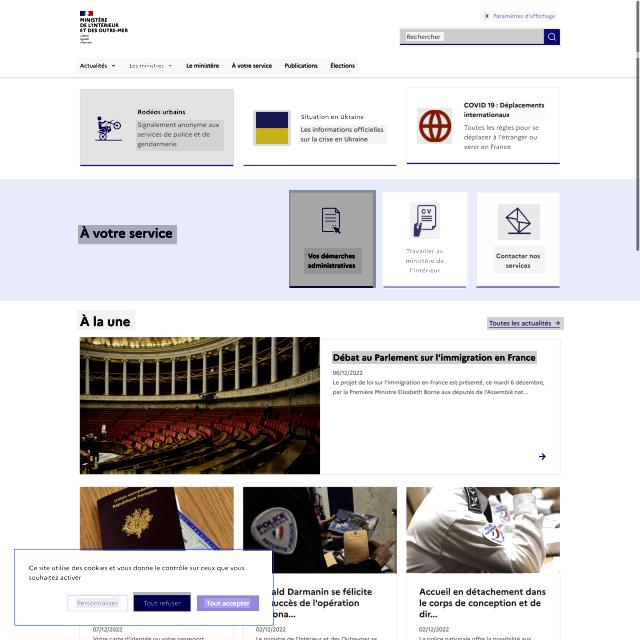CheckBox: (196, 593, 261, 613), (66, 593, 129, 613), (133, 592, 191, 612), (487, 317, 564, 330), (481, 11, 557, 22), (544, 28, 562, 44)
CheckedTextView: (399, 27, 562, 47)
Input field: (136, 120, 224, 151), (464, 124, 541, 154), (299, 125, 387, 144)
Spinner: (404, 88, 562, 168), (242, 88, 398, 168), (80, 89, 234, 165), (289, 190, 376, 288), (382, 192, 468, 289), (477, 192, 561, 288)
accordion: (0, 52, 640, 58)
alert: (128, 58, 174, 70), (80, 60, 118, 72)
bag: (0, 0, 636, 78)
breadcrumbs: (78, 226, 177, 246), (77, 310, 135, 330)
carousel: (498, 204, 540, 240), (410, 202, 440, 239), (318, 205, 345, 238), (547, 31, 559, 43), (537, 449, 547, 462), (484, 11, 492, 22)
content: (253, 110, 291, 146), (87, 111, 125, 145), (417, 110, 452, 146)
copy: (79, 338, 320, 473), (406, 486, 561, 574)
data feed: (463, 102, 547, 121), (304, 248, 362, 274), (493, 246, 545, 273), (404, 248, 450, 278), (300, 110, 366, 121), (204, 598, 250, 608), (76, 598, 119, 608), (136, 108, 187, 116), (143, 598, 182, 608), (406, 32, 444, 41)
date picker: (77, 8, 132, 46)
decoration: (76, 57, 358, 74)
header: (13, 548, 274, 627)
image: (332, 351, 537, 364)
